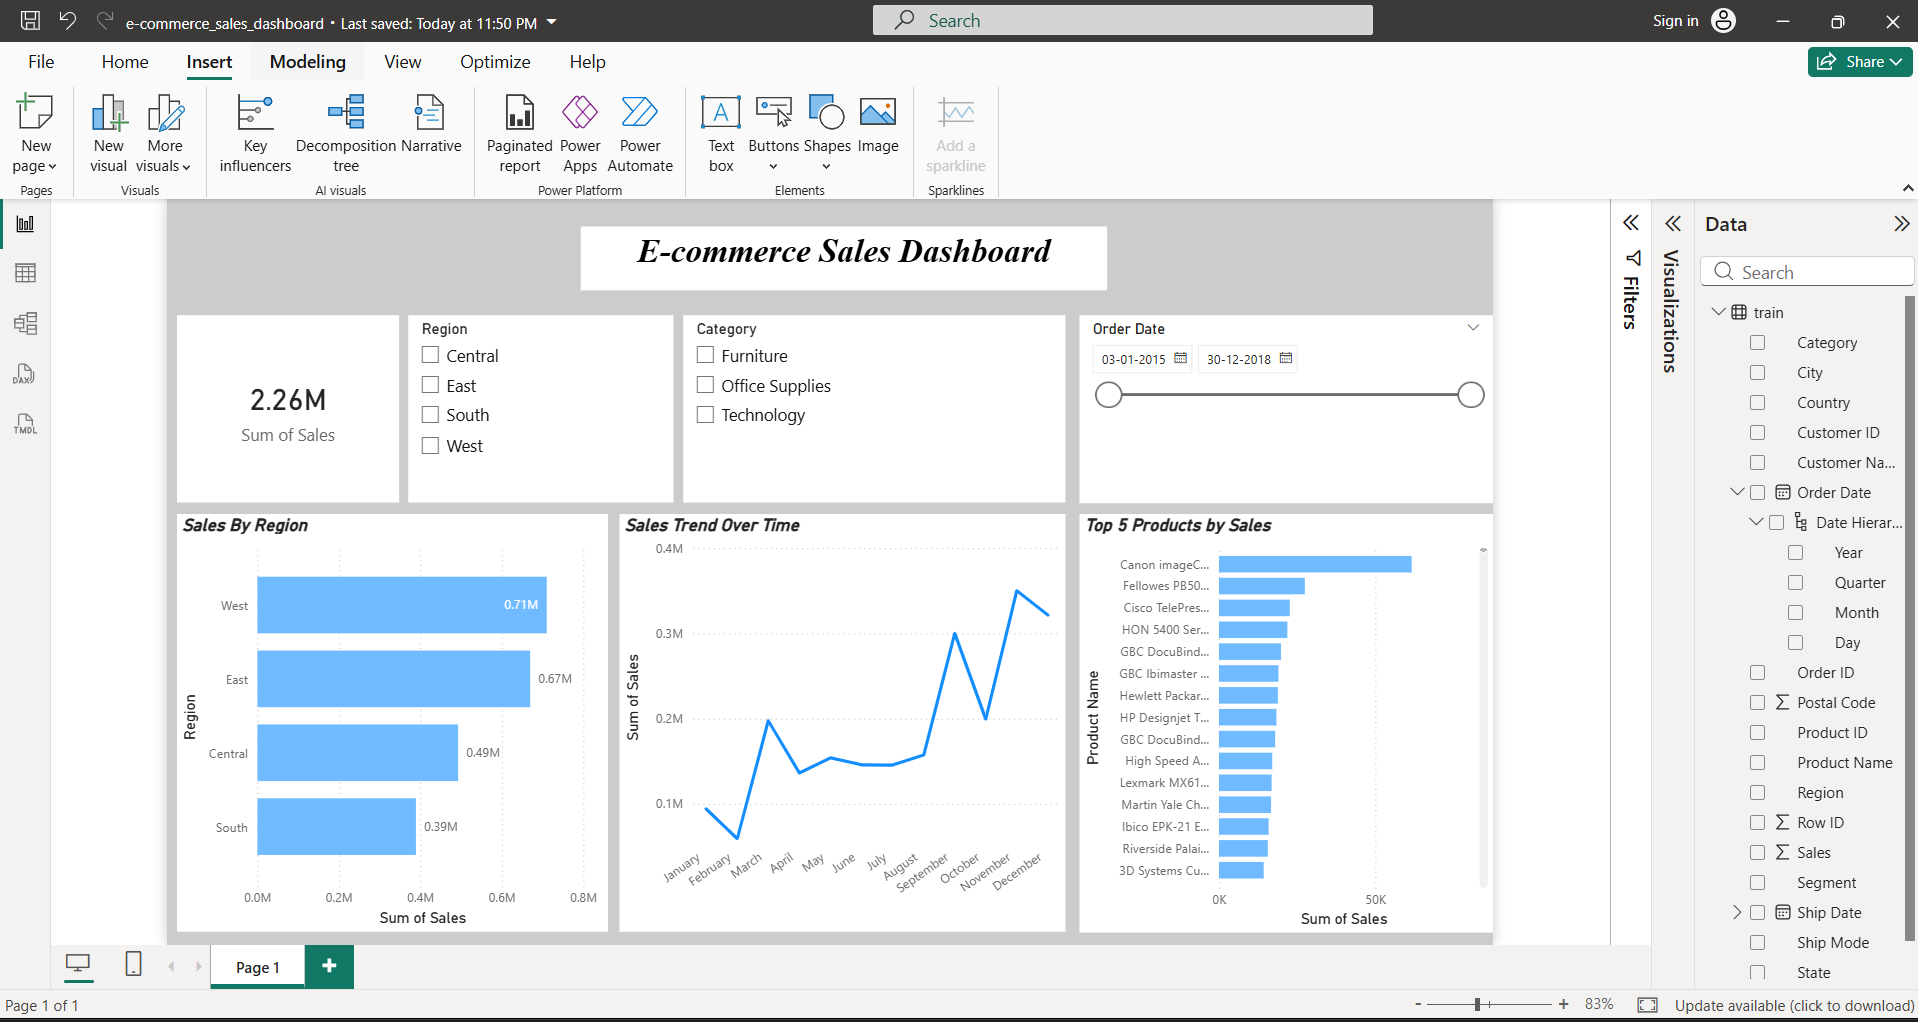

This screenshot's page, from the dashboard's own definition file:
{"tool":"powerbi","page":{"name":"Page 1","canvas":[1280,720],"ordinal":0},"visuals":[{"type":"card","fields":{"Values":["Sum(train.Sales)"]},"box":[9.7,112.2,214.7,181],"z":0},{"type":"clusteredBarChart","title":"Sales By Region","fields":{"Category":["train.Region"],"Y":["Sum(train.Sales)"]},"box":[9.7,304,416.2,403],"z":1000},{"type":"lineChart","title":"Sales Trend Over Time","fields":{"Category":["train.Order Date.Variation.Date Hierarchy.Month"],"Y":["Sum(train.Sales)"]},"box":[436.7,304,430.7,403],"z":2000},{"type":"barChart","title":"Top 5 Products by Sales","fields":{"Category":["train.Product Name"],"Y":["Sum(train.Sales)"]},"box":[880.7,304,399.3,404.2],"z":2001},{"type":"slicer","fields":{"Values":["train.Region"]},"box":[232.8,112.2,255.8,181],"z":2002},{"type":"slicer","fields":{"Values":["train.Category"]},"box":[498.3,112.2,369.2,181],"z":2003},{"type":"slicer","fields":{"Values":["train.Order Date"]},"box":[880.7,112.2,399.3,181],"z":2004},{"type":"textbox","box":[399.3,26.5,507.9,61.5],"z":2005}]}

Visuals, with their boxes on the page's 1280x720 design canvas (x1, y1, x2, y2). These are canvas units, not pixel positions in the 1918x1022 screenshot, which may show the page scaled, cropped or inside an application window:
card - Sum(train.Sales): 10/112/224/293
"Sales By Region" clusteredBarChart: 10/304/426/707
"Sales Trend Over Time" lineChart: 437/304/867/707
"Top 5 Products by Sales" barChart: 881/304/1280/708
slicer - train.Region: 233/112/489/293
slicer - train.Category: 498/112/868/293
slicer - train.Order Date: 881/112/1280/293
textbox: 399/26/907/88
